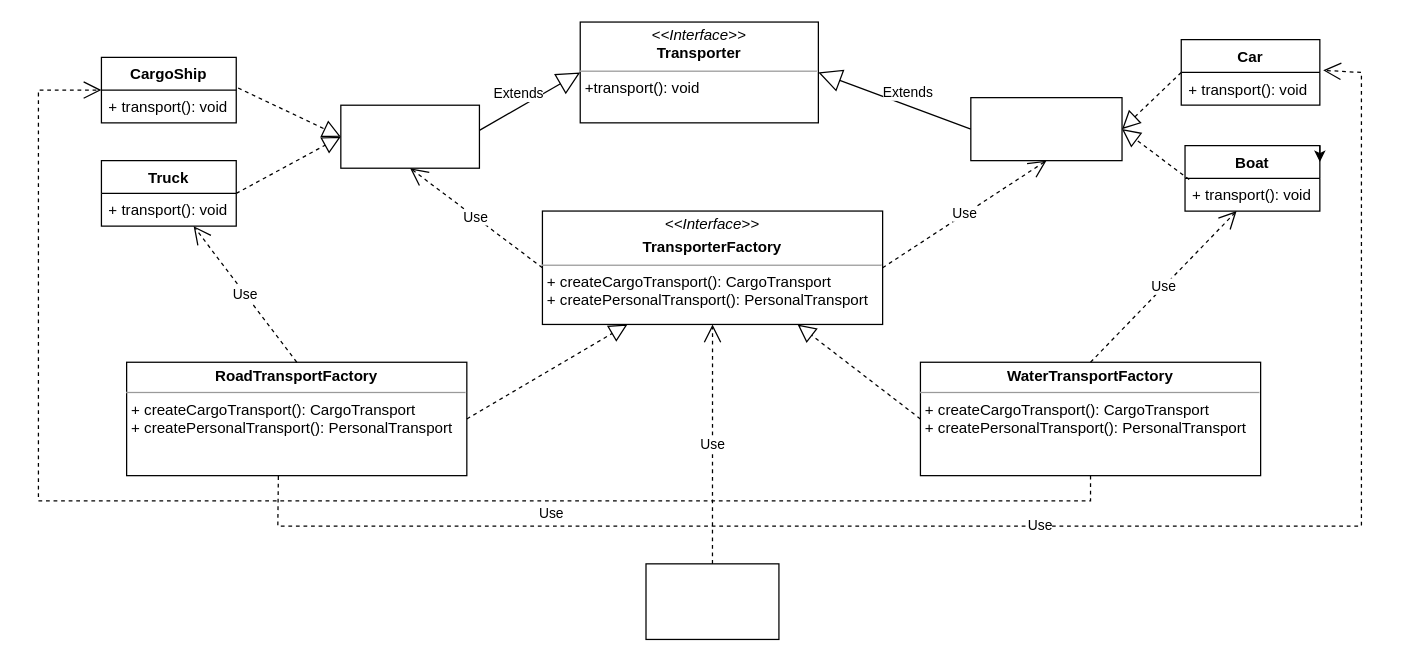
The diagram is 1401 pixels wide and 662 high, and some of its shapes have lost their labels. The centre of each missing label's shape, as x and y in pixels:
Client + main(): void: pixel 712 601
«interface» CargoTransport: pixel 409 136
«interface» PersonalTransport: pixel 1046 128
